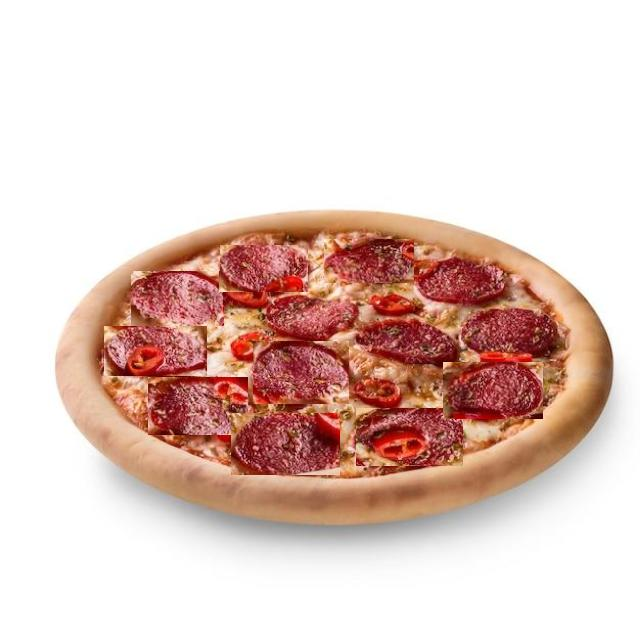pepperoni: (231, 413, 340, 475), (356, 408, 463, 466), (253, 342, 349, 406), (148, 377, 248, 435), (443, 362, 543, 419), (132, 271, 226, 326), (104, 326, 207, 376), (462, 307, 562, 354), (220, 246, 308, 294), (262, 296, 358, 338), (356, 321, 454, 362), (324, 239, 414, 283), (419, 258, 507, 302)
pizza: (56, 208, 613, 527)
